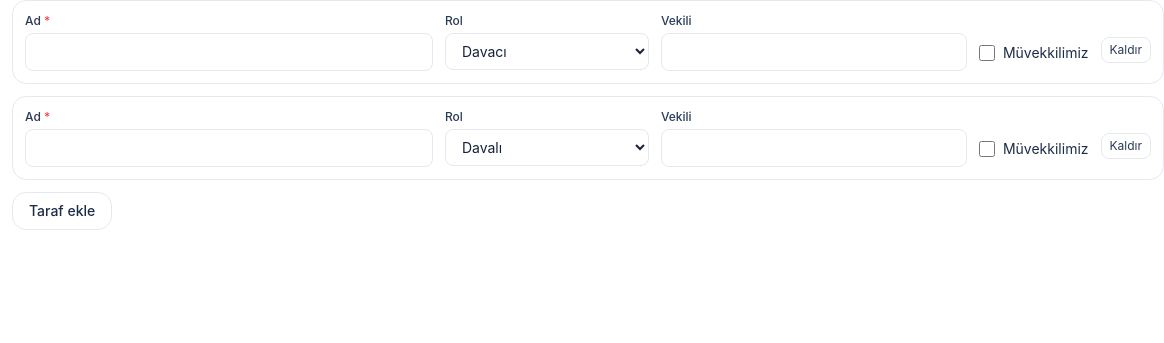
Test: PartiesFields › edits a row, marks the client and adds and removes rows
In the 1st field labelled "Ad *": {"x": 229, "y": 52} [25,33,433,71], type "A Ltd."
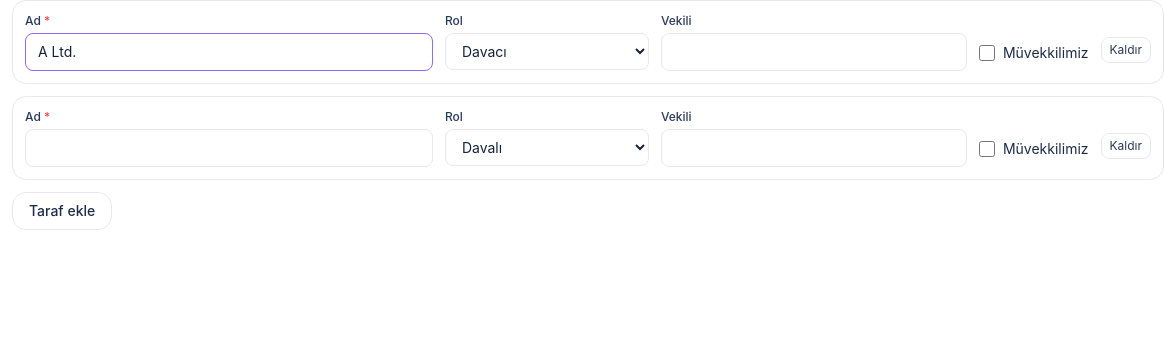
Click the 1st checkbox labelled "Müvekkilimiz": {"x": 987, "y": 53} [979,45,995,61]
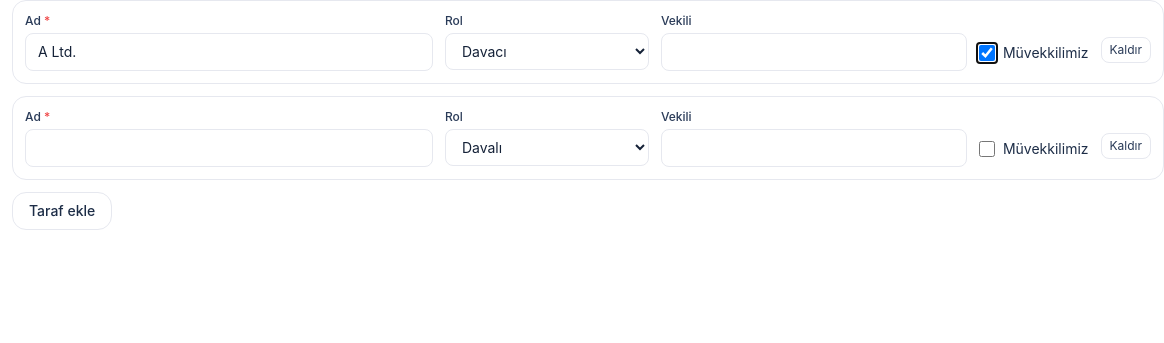
Select "Fer'i müdahil" in the 1st dropdown labelled "Rol": {"x": 547, "y": 52} [445,33,649,70]
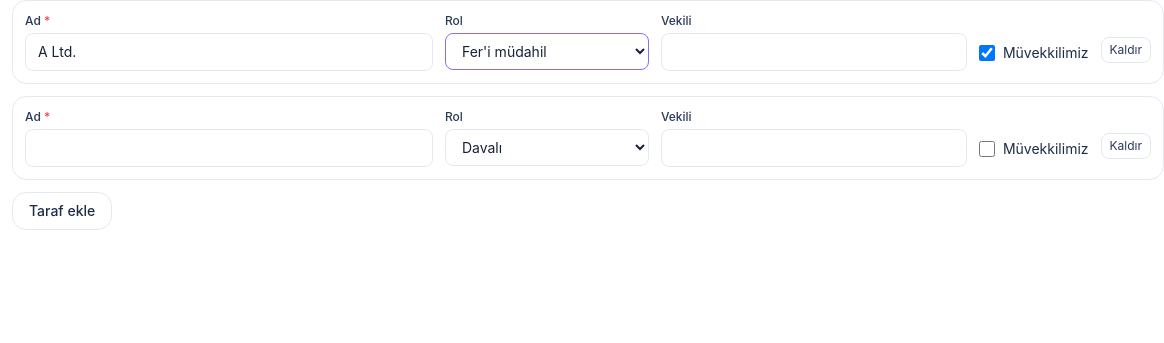
In the 1st field labelled "Vekili": {"x": 814, "y": 52} [661,33,967,71], type "Av. Ece"
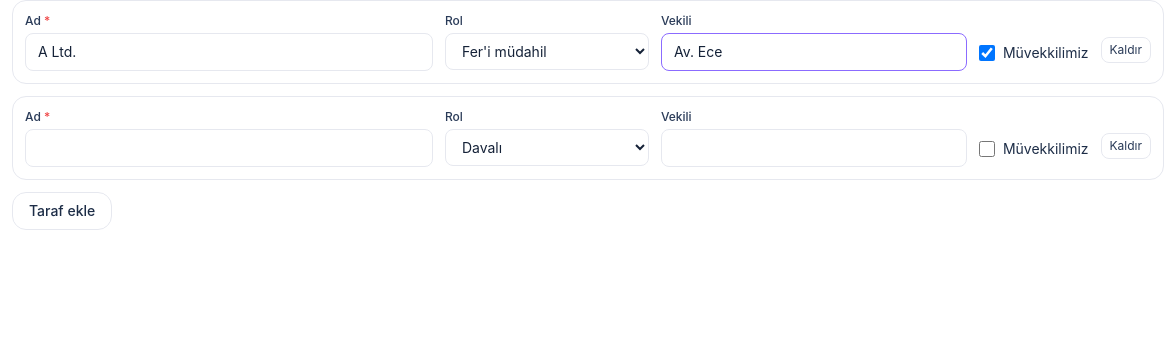
Click the button "Taraf ekle": {"x": 62, "y": 211} [12,192,112,230]
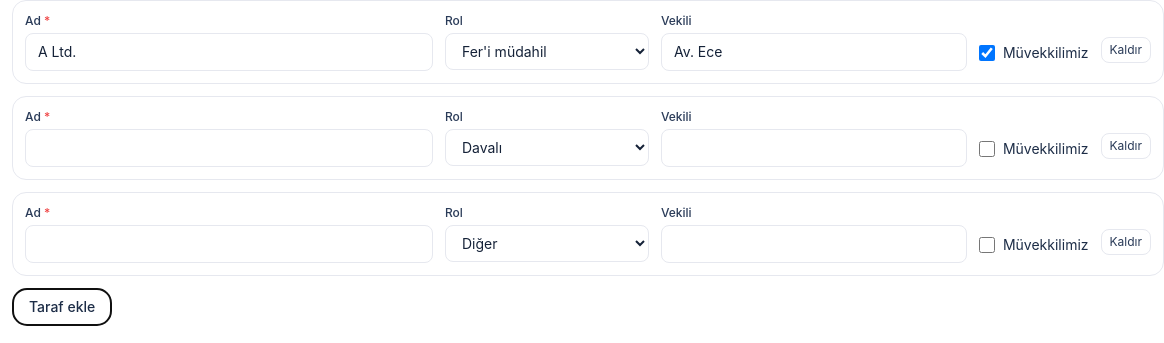
Expected: the number of elements "Ad * Rol Vekili Müvekkilimiz Kaldır" is 3, [12,0,1163,84]; [12,96,1163,180]; [12,192,1163,276]
Click the button with aria-label "Taraf 3 satırını kaldır": {"x": 1126, "y": 242} [1100,229,1151,255]
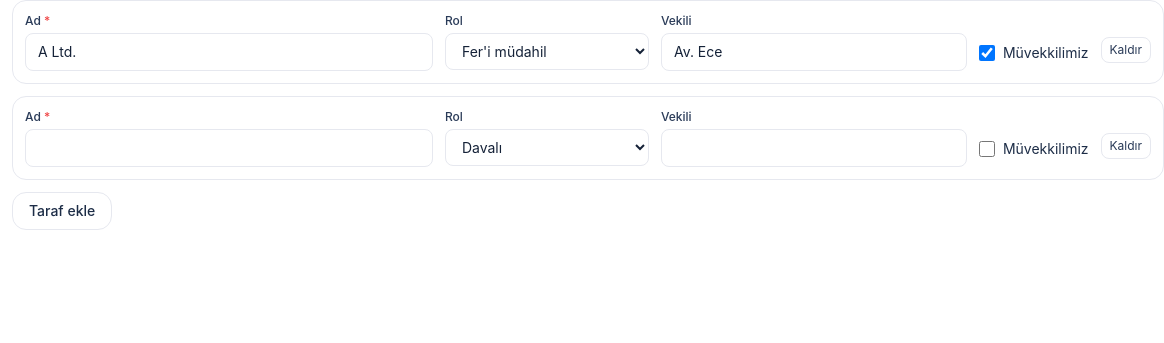
Expected: the number of elements "Ad * Rol Vekili Müvekkilimiz Kaldır" is 2, [12,0,1163,84]; [12,96,1163,180]
